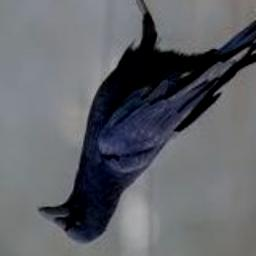Crow: (38, 0, 256, 244)
